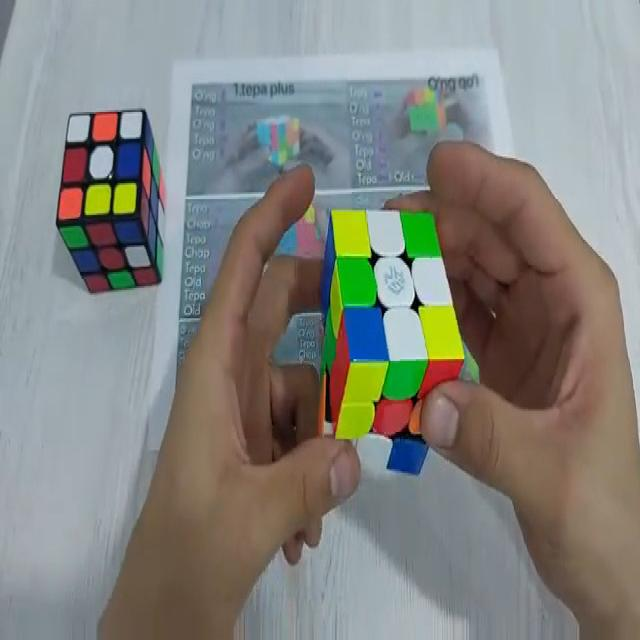Rub: (312, 204, 464, 486), (54, 107, 168, 296)
